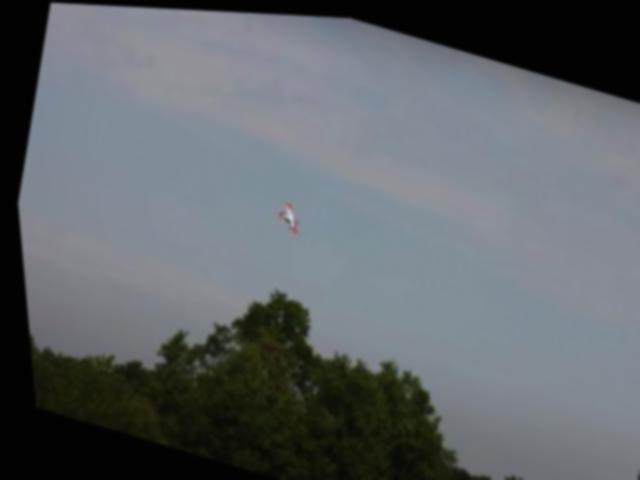uav: (263, 191, 308, 242)
